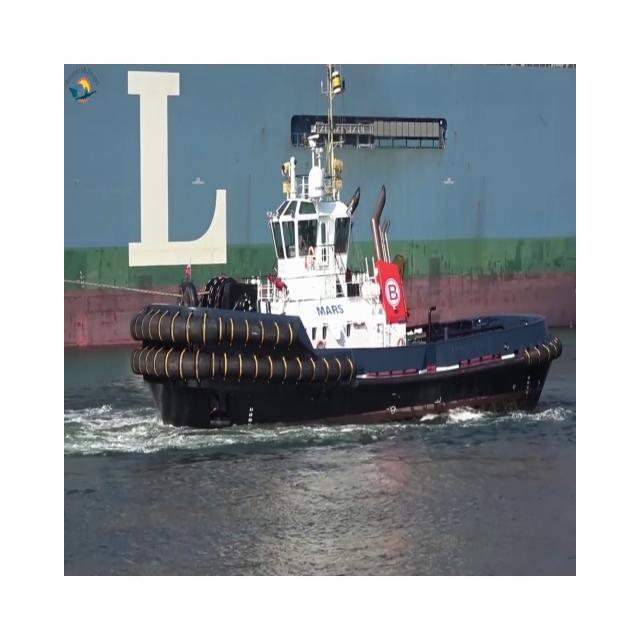OCR: (120, 61, 241, 286)
